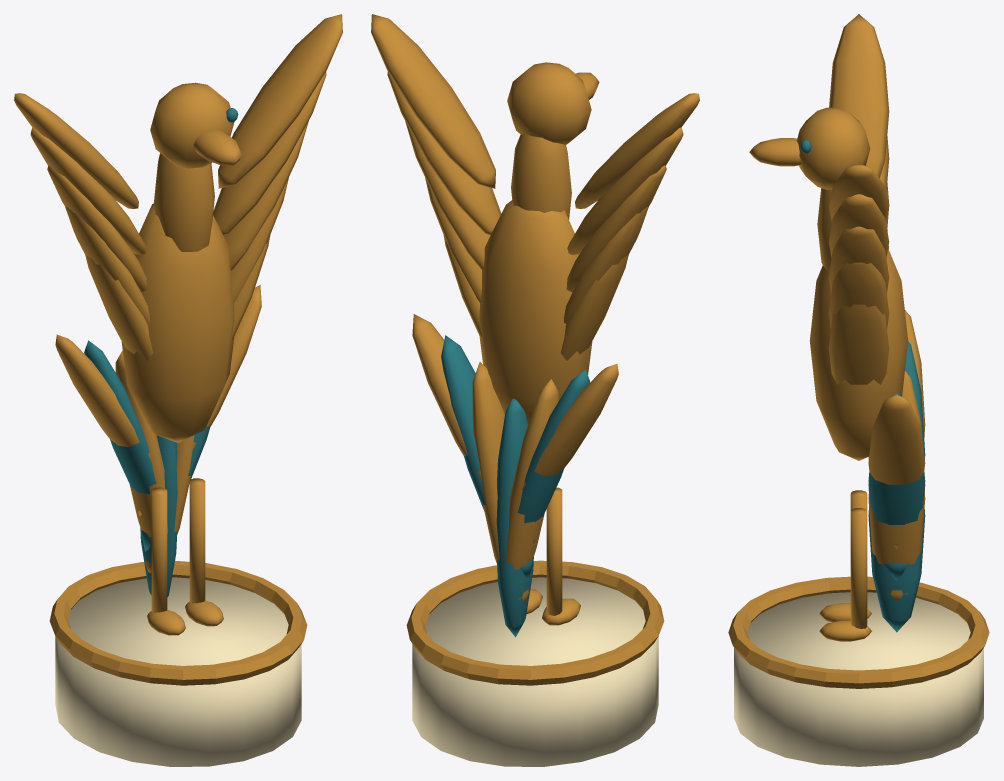
Rendered from phoenix-fit-v2.glb.
3 renders of one model, left to right at view 1: azimuth 30°, elevation 25°; view 2: azimuth 150°, elevation 25°; view 3: azimuth 270°, elevation 25°, orthographic. The views are drawn at different scales.
Parts seen in each view (by area): view 1: phoenix; view 2: phoenix; view 3: phoenix.
Part boxes in pixels (left/top/right/bottom): phoenix: left=14, top=14, right=342, bottom=766; phoenix: left=371, top=14, right=699, bottom=766; phoenix: left=728, top=14, right=989, bottom=766.
Size of the model in its own units: 0.9511 by 1.83 by 0.69.
